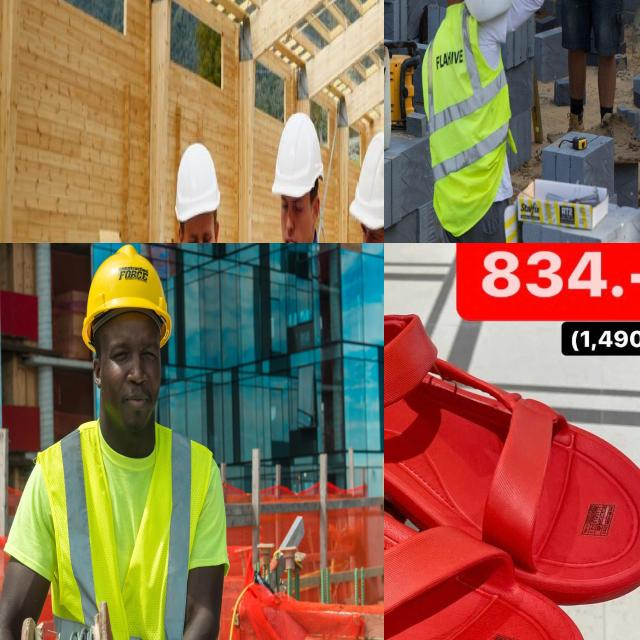No_Ear-Protection: (88, 352, 106, 391)
No_Glasses: (104, 331, 163, 373)
Sandals: (384, 271, 640, 640)
face_nomask: (96, 309, 166, 431), (280, 188, 317, 243), (178, 212, 222, 243), (359, 212, 384, 243)
head_helmet: (75, 243, 174, 340), (271, 109, 325, 201), (347, 129, 384, 234), (174, 141, 220, 223)
person: (0, 243, 229, 640), (423, 0, 519, 196), (259, 108, 347, 243), (149, 139, 260, 243), (555, 0, 640, 123)
vest: (38, 396, 220, 640), (421, 1, 512, 233)
